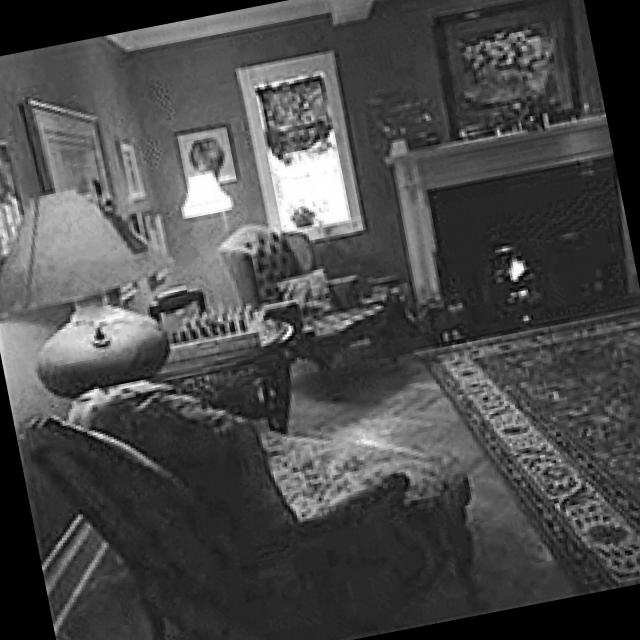2001: (237, 53, 361, 247)
armchair crop: (20, 380, 476, 640), (214, 223, 408, 386)
ceiling beam: (104, 0, 381, 50)
chessboard: (159, 311, 256, 369)
curtain crop: (253, 70, 333, 159)
decoration -X: (478, 89, 564, 133)
fire place: (387, 112, 637, 336)
lamp crop: (0, 185, 170, 394), (173, 168, 236, 219)
painting crop: (434, 0, 577, 136), (17, 99, 114, 215), (169, 125, 234, 186), (123, 207, 168, 260), (0, 140, 19, 255), (117, 140, 141, 202)
pillow occluded: (274, 270, 333, 318)
plant -x: (285, 200, 314, 226)
pot hanger: (349, 269, 409, 343)
rug -partially obscured-: (413, 309, 640, 592)
small table part: (153, 308, 289, 432), (143, 287, 203, 314)
